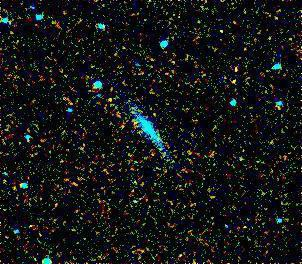star: (93, 87, 123, 117)
